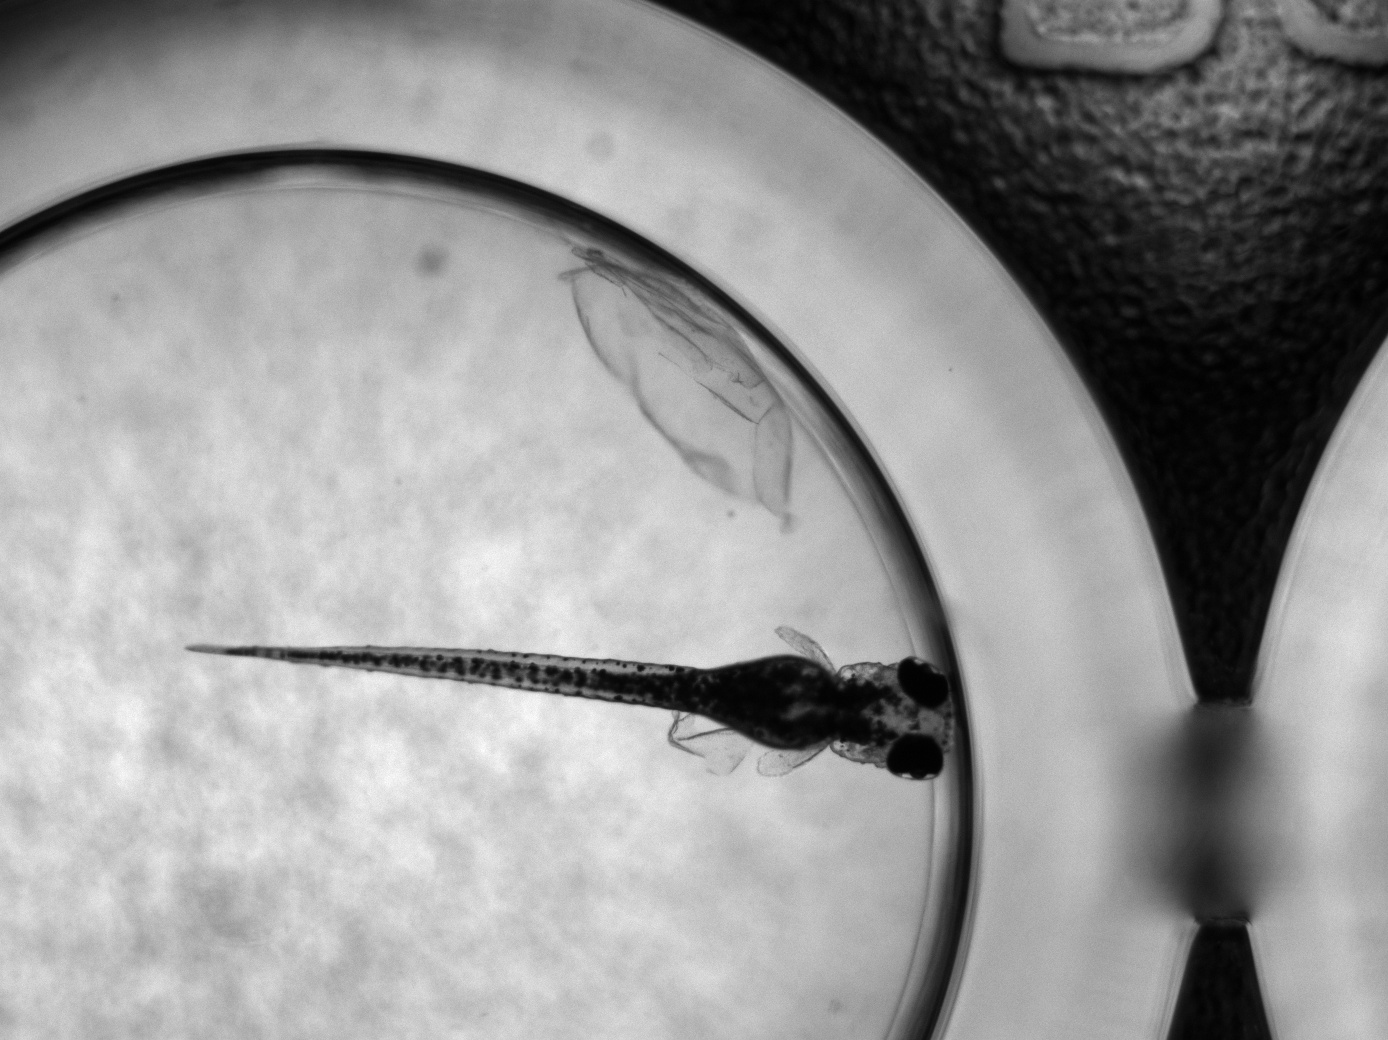debris: (561, 239, 800, 522)
embryo: (186, 625, 954, 779)
eye: (895, 655, 949, 708), (887, 734, 942, 780)
yolksac: (729, 655, 832, 751)
